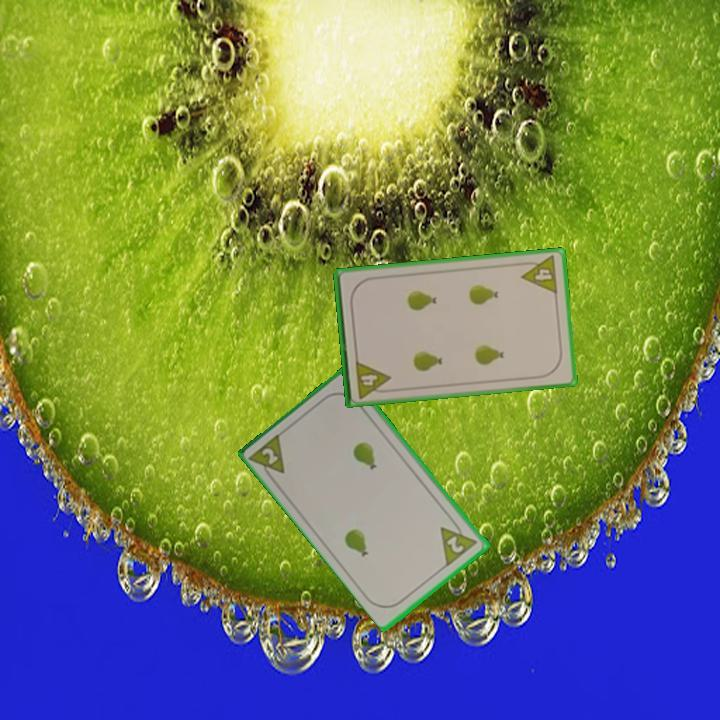2p: (437, 515, 481, 568), (247, 429, 288, 485)
4p: (517, 252, 561, 297), (352, 357, 394, 401)
